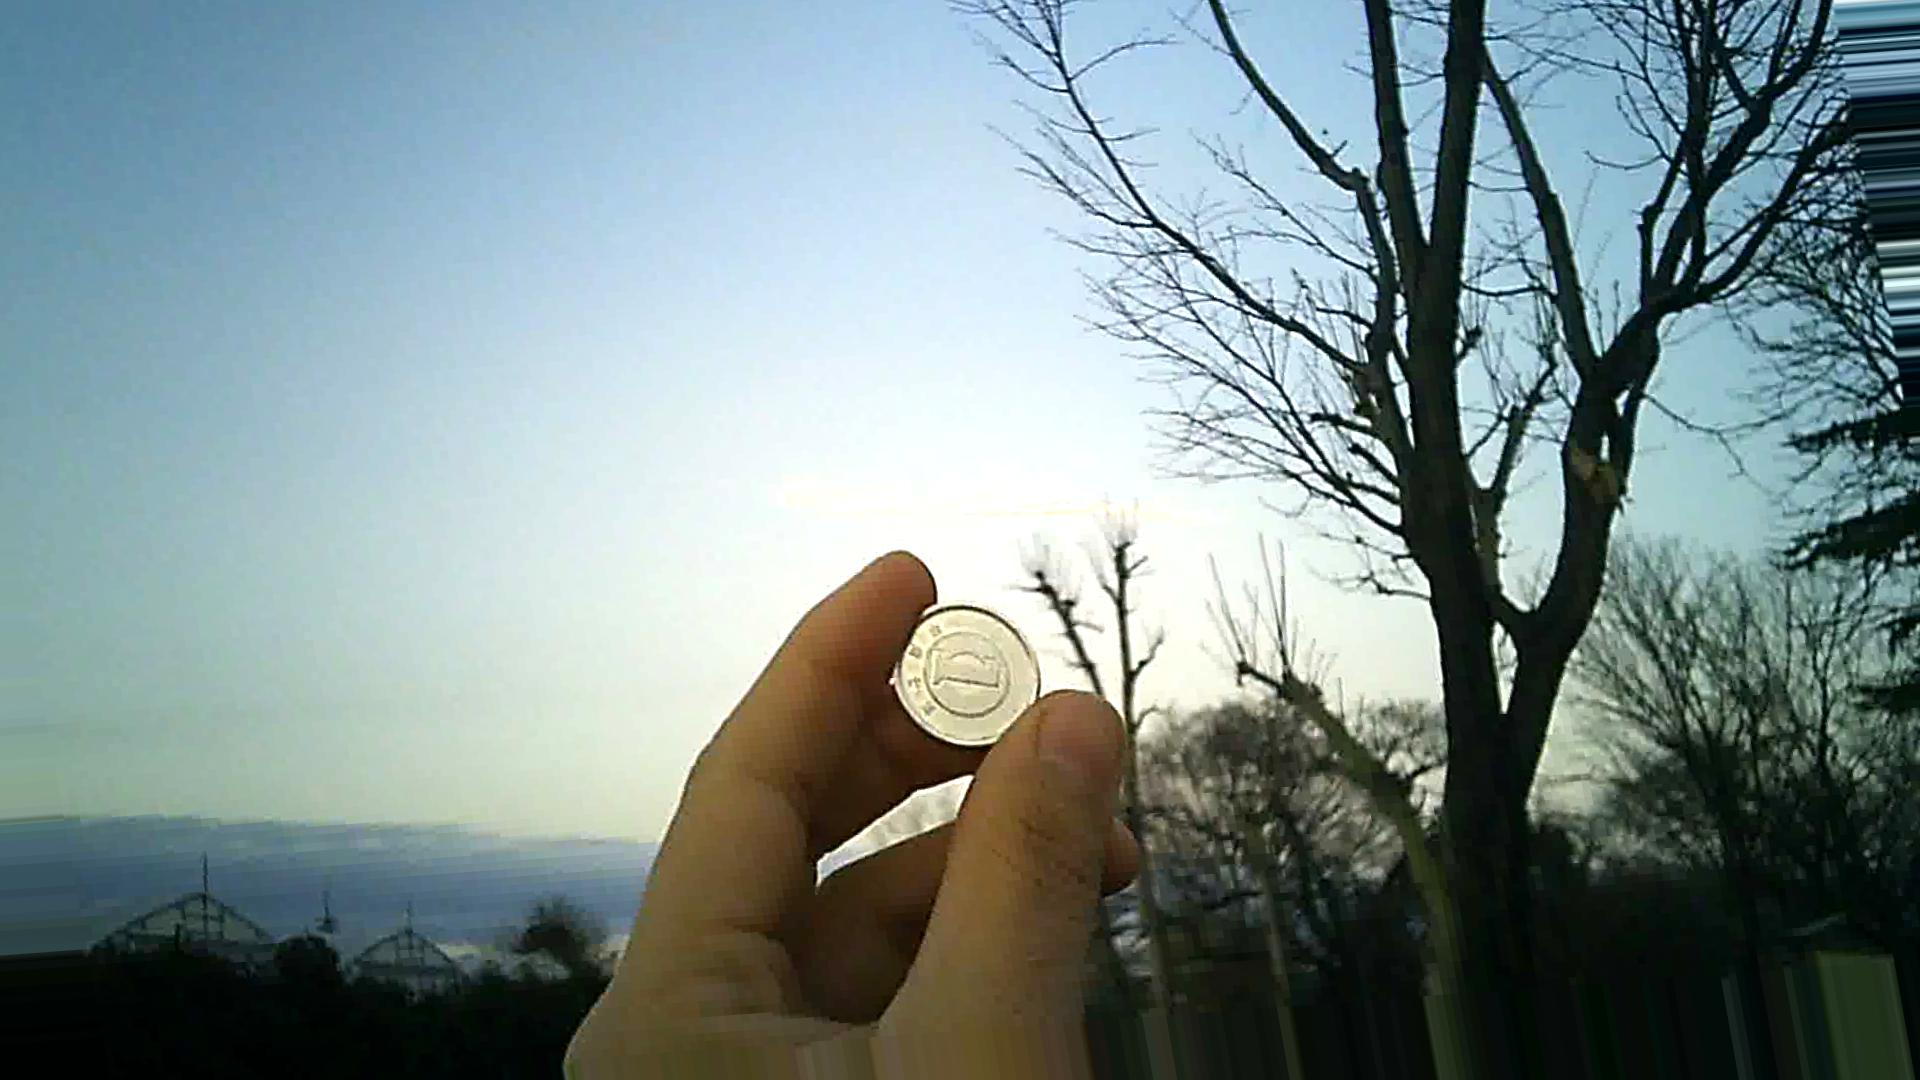1 Yen: (872, 591, 1054, 752)
